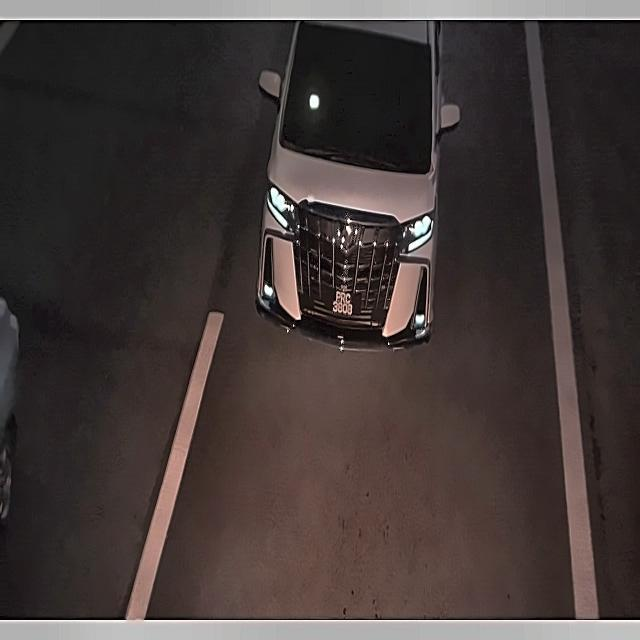car: (325, 281, 358, 330)
